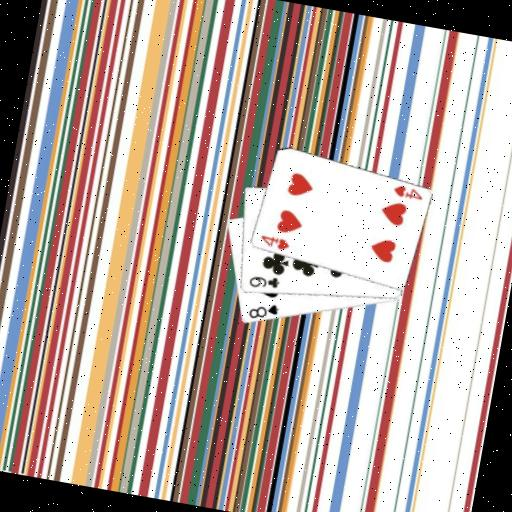4H: (256, 231, 292, 253), (389, 180, 425, 202)
8S: (244, 297, 280, 324)
9C: (244, 270, 282, 294)
